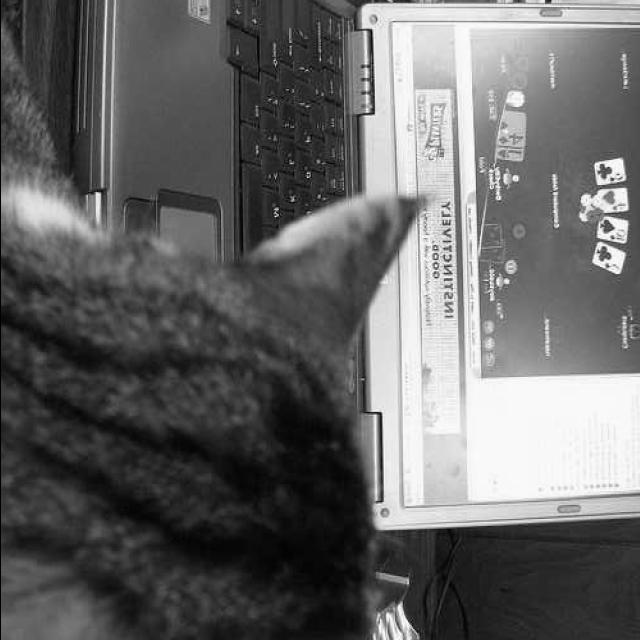laptop: (88, 0, 640, 526)
